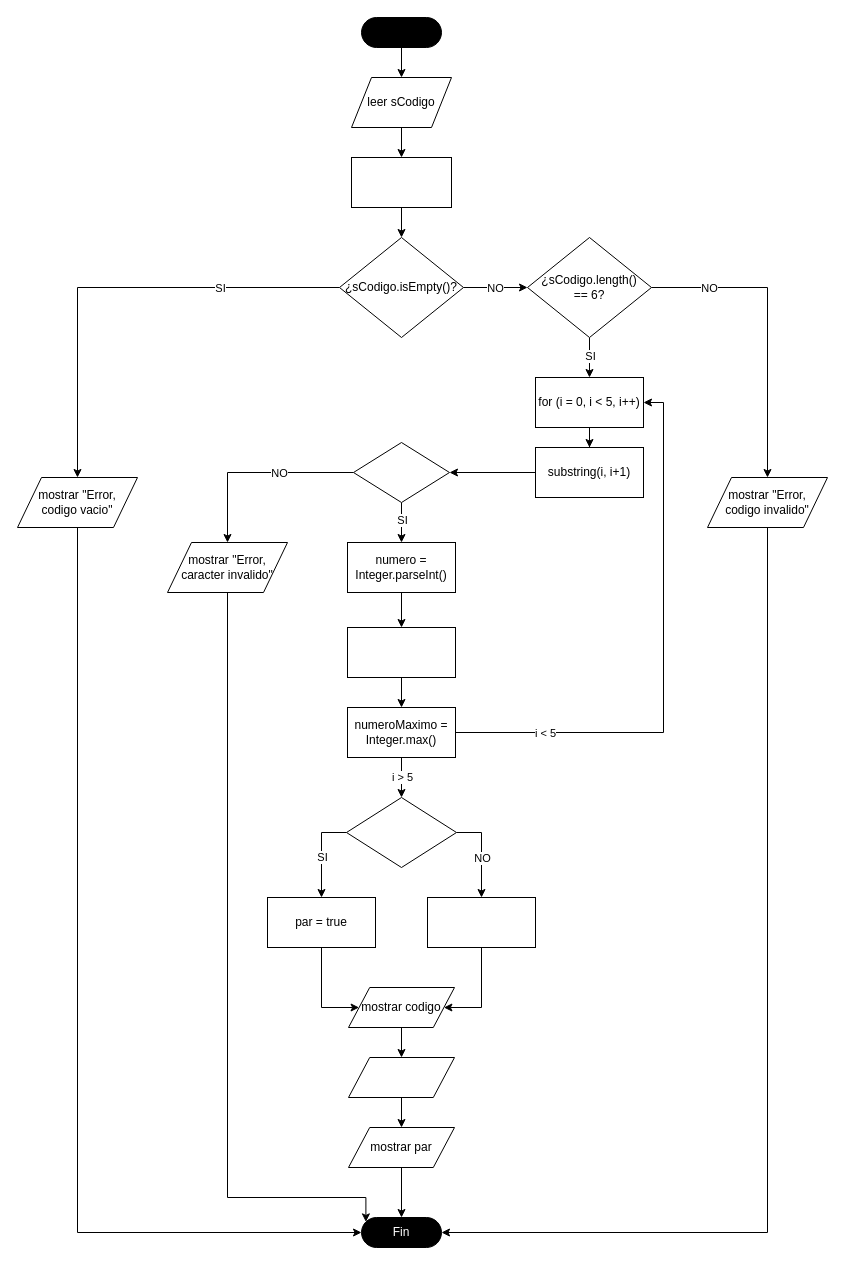
The diagram is 845 pixels wide and 1265 high, and some of its shapes have lost their labels. The centre of each missing label's shape, as x and y in pixels:
"0 <= char <= 9" goes at point 401,472.
"Inicio" goes at point 401,32.
"mostrar suma" goes at point 401,1077.
"par = false" goes at point 481,922.
"sCodigo.trim()" goes at point 401,182.
"suma % 2 == 0" goes at point 401,832.
"suma = suma + numero" goes at point 401,652.
